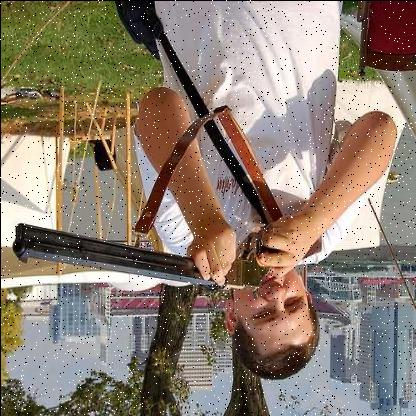rifle: (7, 178, 330, 293)
